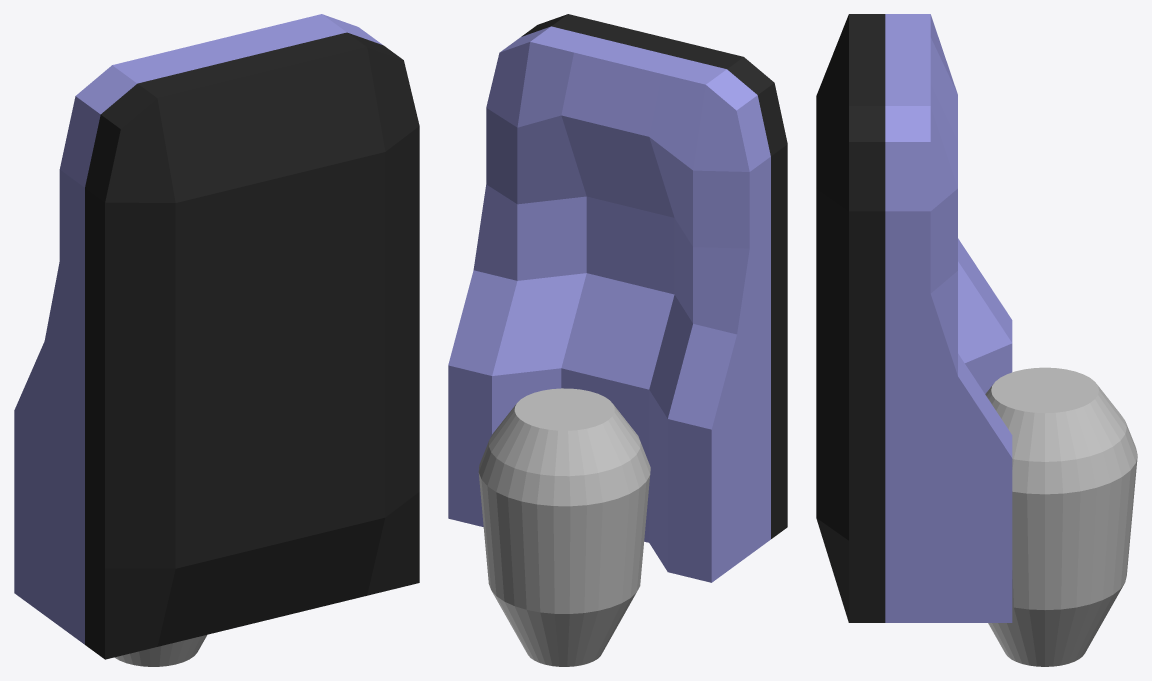
File: rocket_craft.fbx
3 renders of one model, left to right at view 1: azimuth 30°, elevation 25°; view 2: azimuth 150°, elevation 25°; view 3: azimuth 270°, elevation 25°, orthographic. The views are drawn at different scales.
Visible parts, largest first — view 1: Cube; view 2: Cube; view 3: Cube.
Part boxes in pixels (box(x1,y1,x2,y2)): Cube: box(14, 14, 419, 666); Cube: box(448, 14, 787, 666); Cube: box(816, 14, 1137, 666).
Size of the model in its own units: 590 by 600 by 1194.
